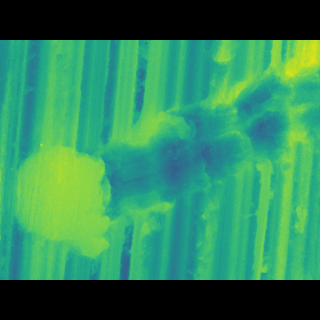Loch: (2, 75, 320, 237)
